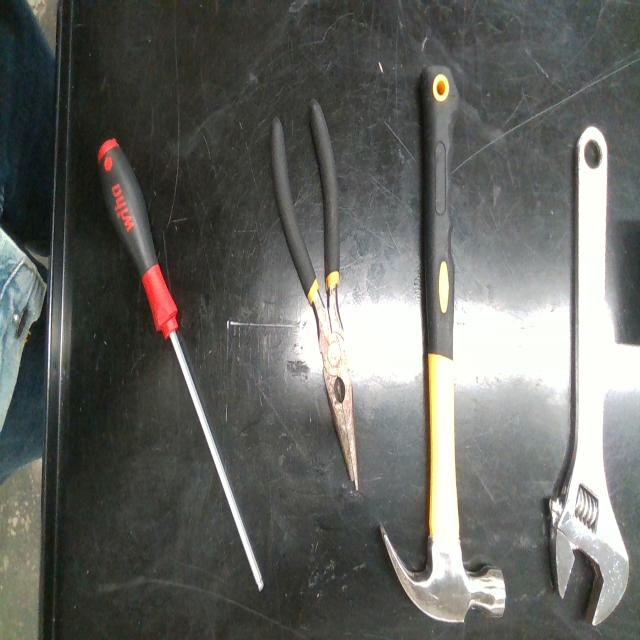Screwdriver: (98, 138, 264, 590)
